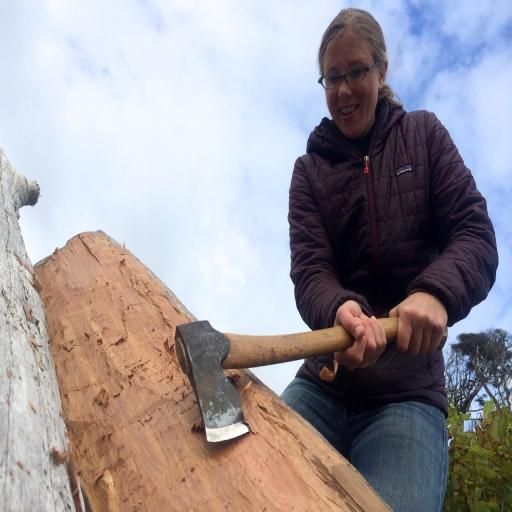Axe: (171, 319, 449, 446)
